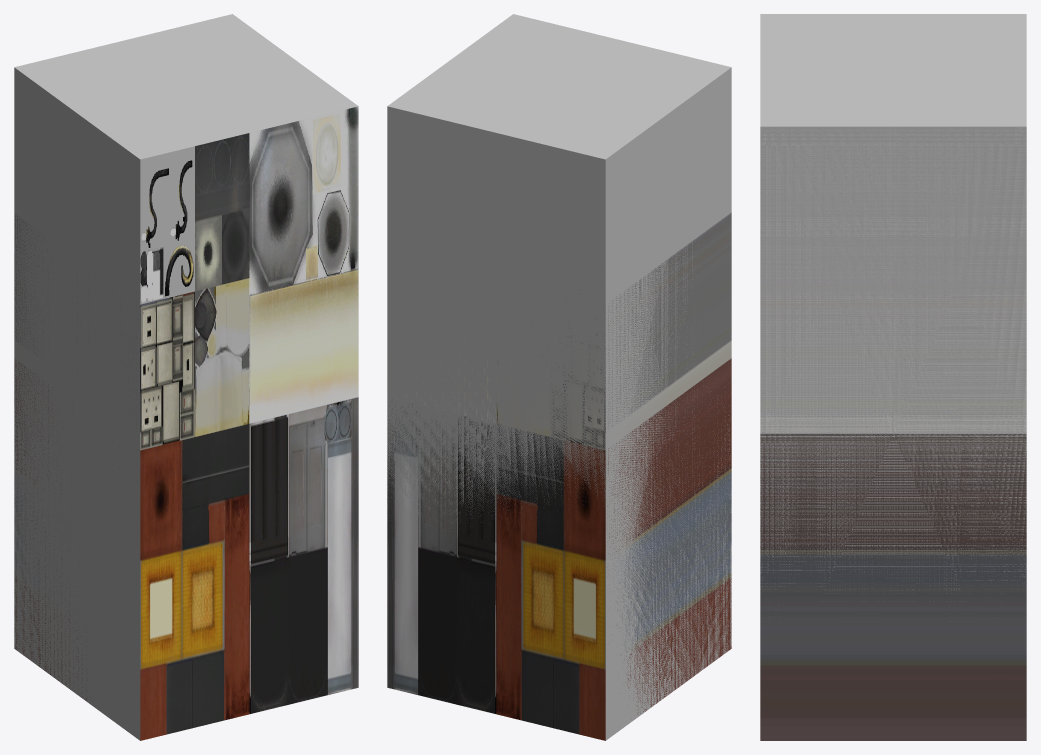
Rendered from hanging_light.DAE.
3 views of the same model, side by side, from view 1: azimuth 30°, elevation 25°; view 2: azimuth 150°, elevation 25°; view 3: azimuth 270°, elevation 25° (orthographic). The views are drawn at different scales.
Visible parts, largest first — view 1: colbox-1, bounds; view 2: bounds, colbox-1; view 3: colbox-1, bounds.
Part boxes in pixels (x1=…): colbox-1: x1=14, y1=106, x2=358, y2=740; bounds: x1=14, y1=14, x2=358, y2=740; bounds: x1=387, y1=14, x2=731, y2=740; colbox-1: x1=387, y1=212, x2=731, y2=740; colbox-1: x1=760, y1=126, x2=1026, y2=740; bounds: x1=760, y1=14, x2=1026, y2=601.
Size of the model in its own units: 27.17 by 27.17 by 69.13.
